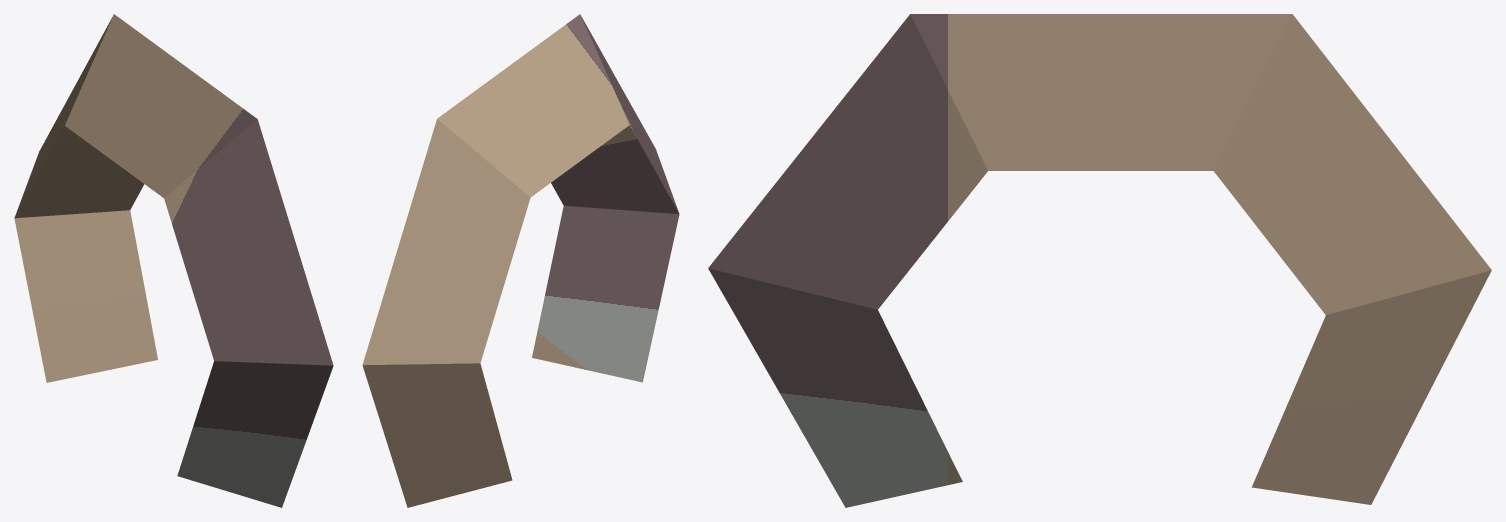
File: Hasp.fbx
3 views of the same model, side by side, from view 1: azimuth 30°, elevation 25°; view 2: azimuth 150°, elevation 25°; view 3: azimuth 270°, elevation 25° (orthographic). The views are drawn at different scales.
Visible parts, largest first — view 1: Hasp; view 2: Hasp; view 3: Hasp.
Part boxes in pixels (x1,y1,x2,y2): Hasp: (14, 14, 333, 507); Hasp: (362, 14, 679, 507); Hasp: (708, 14, 1491, 507).
Bounding box in the file's own units: 2.26 × 7.97 × 11.47.
Materials: 1 (1 with a texture image).
